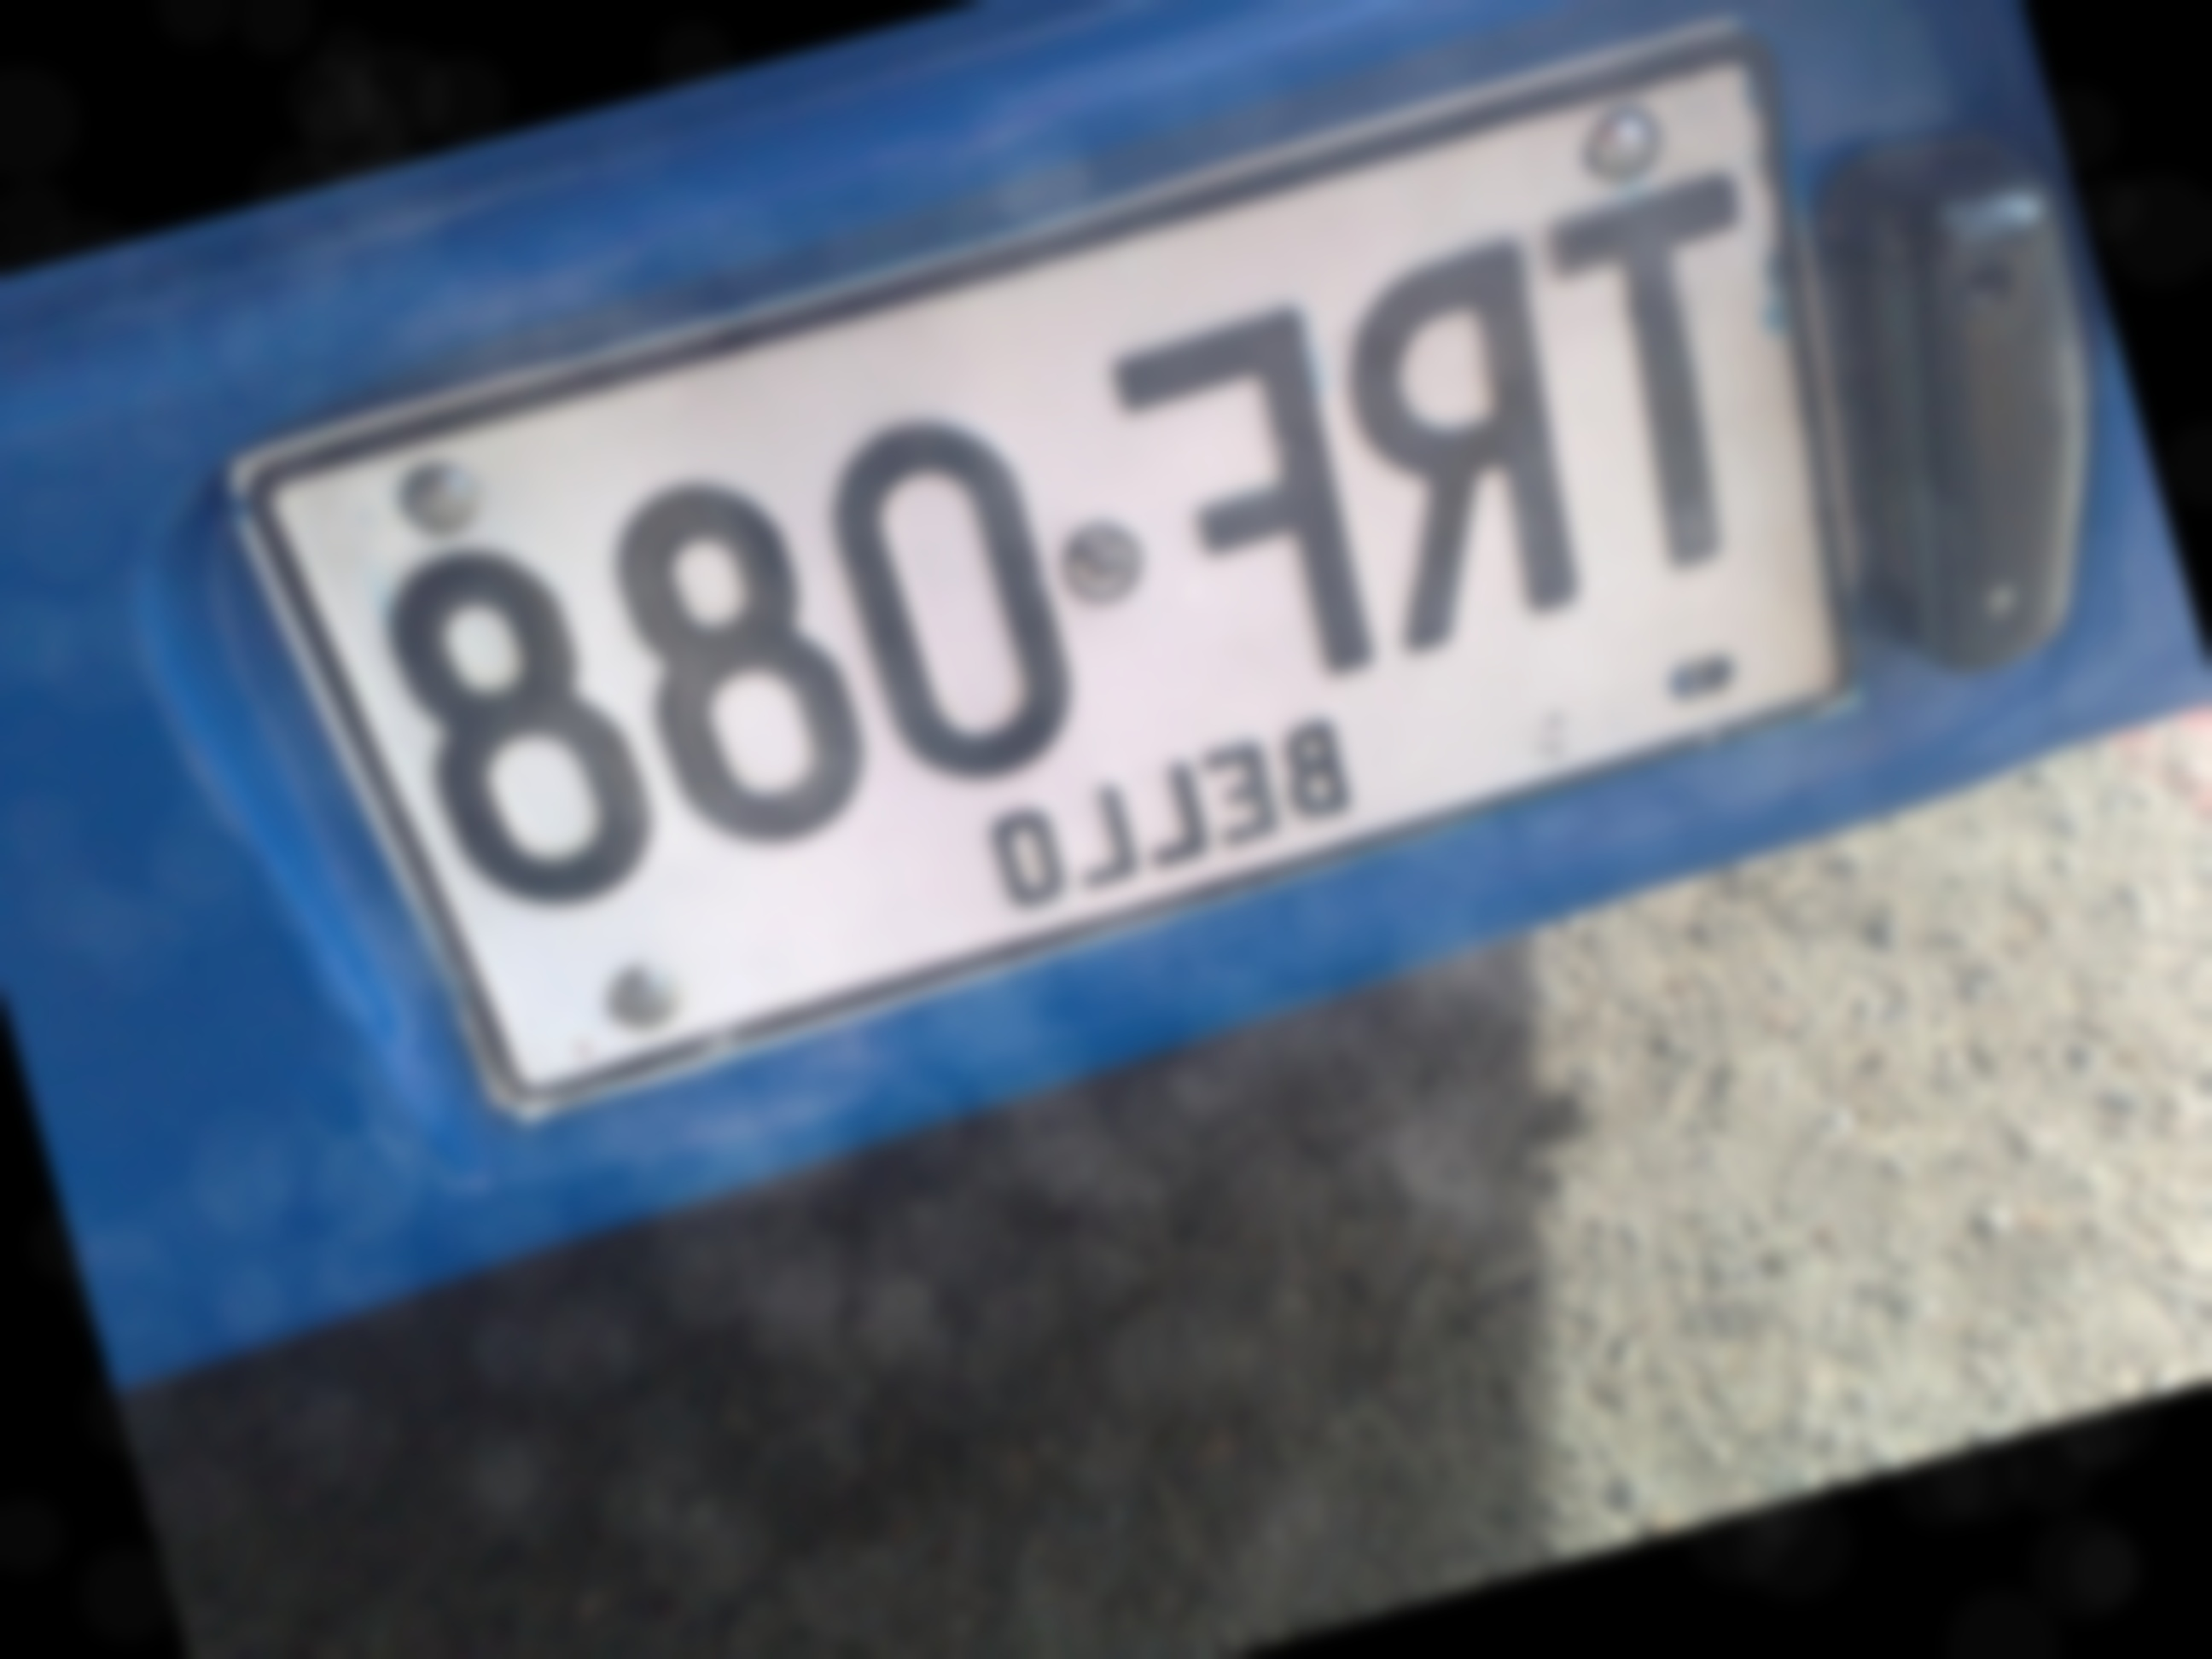placas: (198, 0, 1998, 1172)
